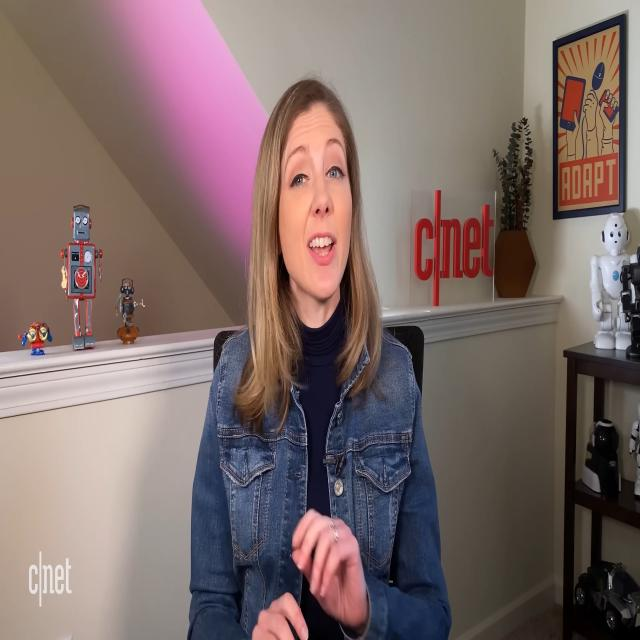dress: (183, 307, 455, 640)
